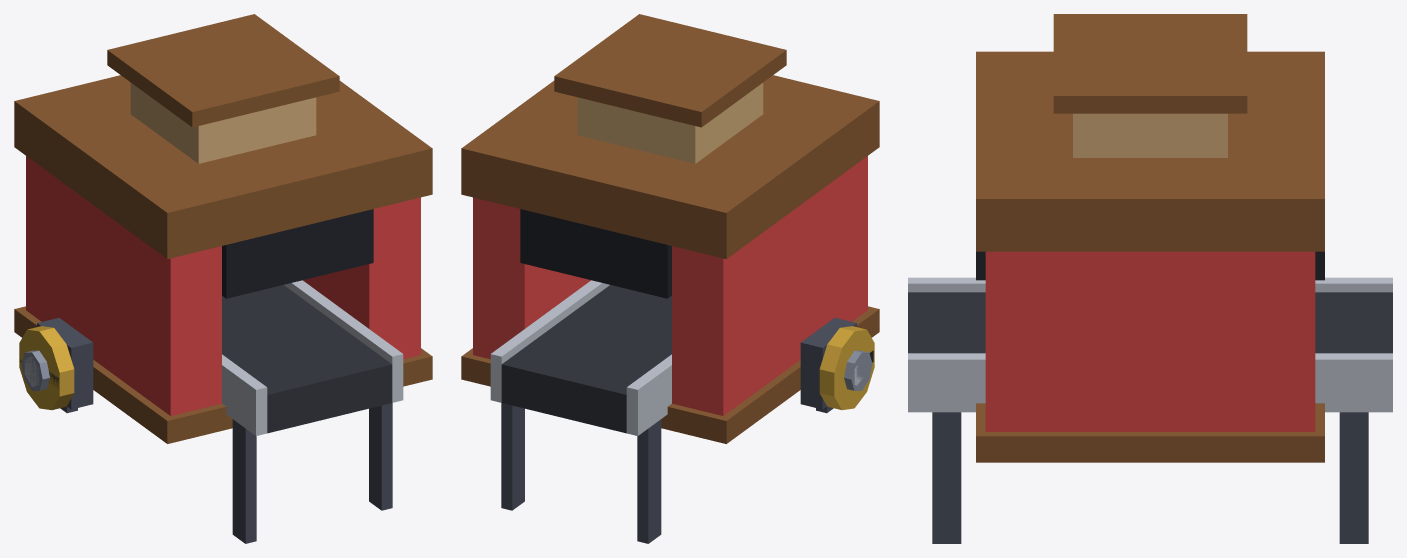
Rendered from thresher-left.glb.
3 renders of one model, left to right at view 1: azimuth 30°, elevation 25°; view 2: azimuth 150°, elevation 25°; view 3: azimuth 270°, elevation 25°, orthographic. The views are drawn at different scales.
Visible parts, largest first — view 1: thresher-left, spin-x; view 2: thresher-left, spin-x; view 3: thresher-left.
Boxes of the visible parts, x1,y1,x2,y2 form: thresher-left: (14,14,432,543); spin-x: (19,326,74,410); thresher-left: (461,14,879,543); spin-x: (819,326,874,410); thresher-left: (908,14,1392,543).
Bounding box in the file's own units: 0.88 × 1.02 × 1.
Materials: 3 (3 with a texture image).
